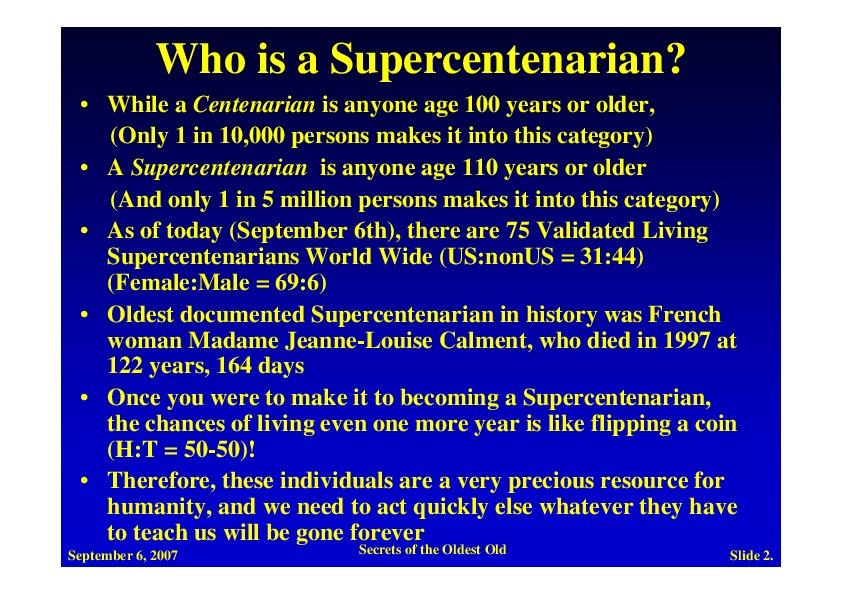paragraph: (100, 88, 781, 541), (60, 547, 780, 568)
title: (149, 27, 688, 90)
